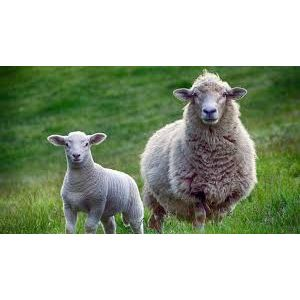sheep: (154, 70, 262, 227), (45, 129, 147, 234)
